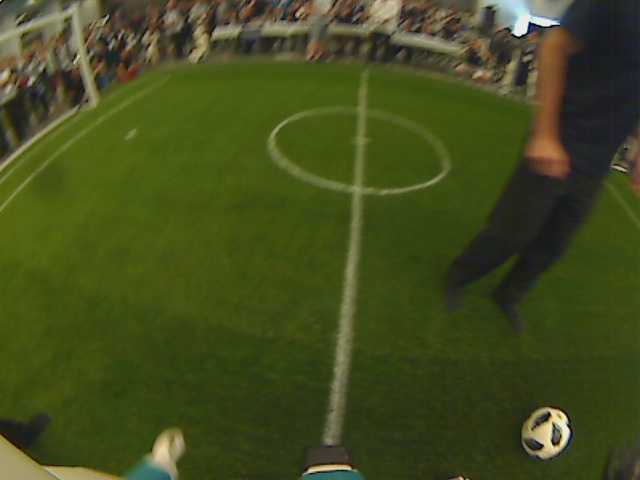ball: (519, 406, 575, 461)
